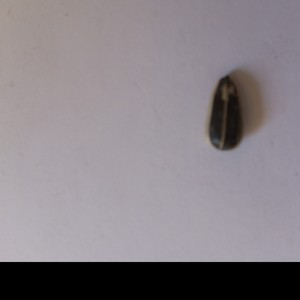girasol: (202, 73, 248, 155)
